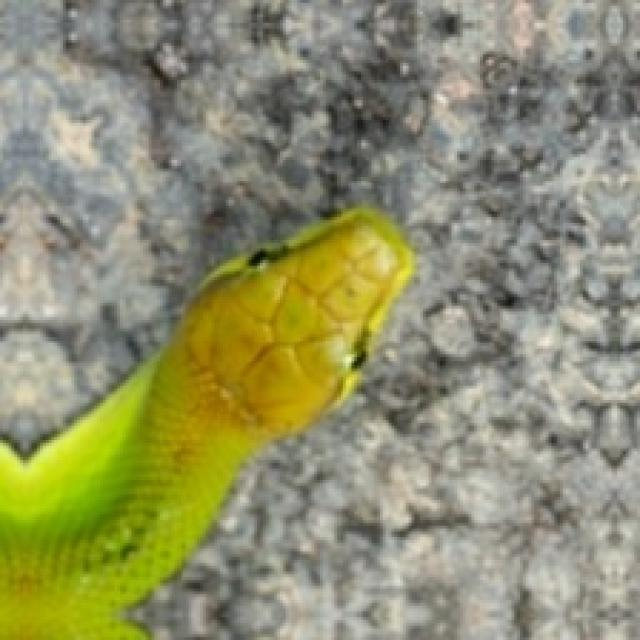red-tailed green ratsnake: (0, 206, 411, 637)
